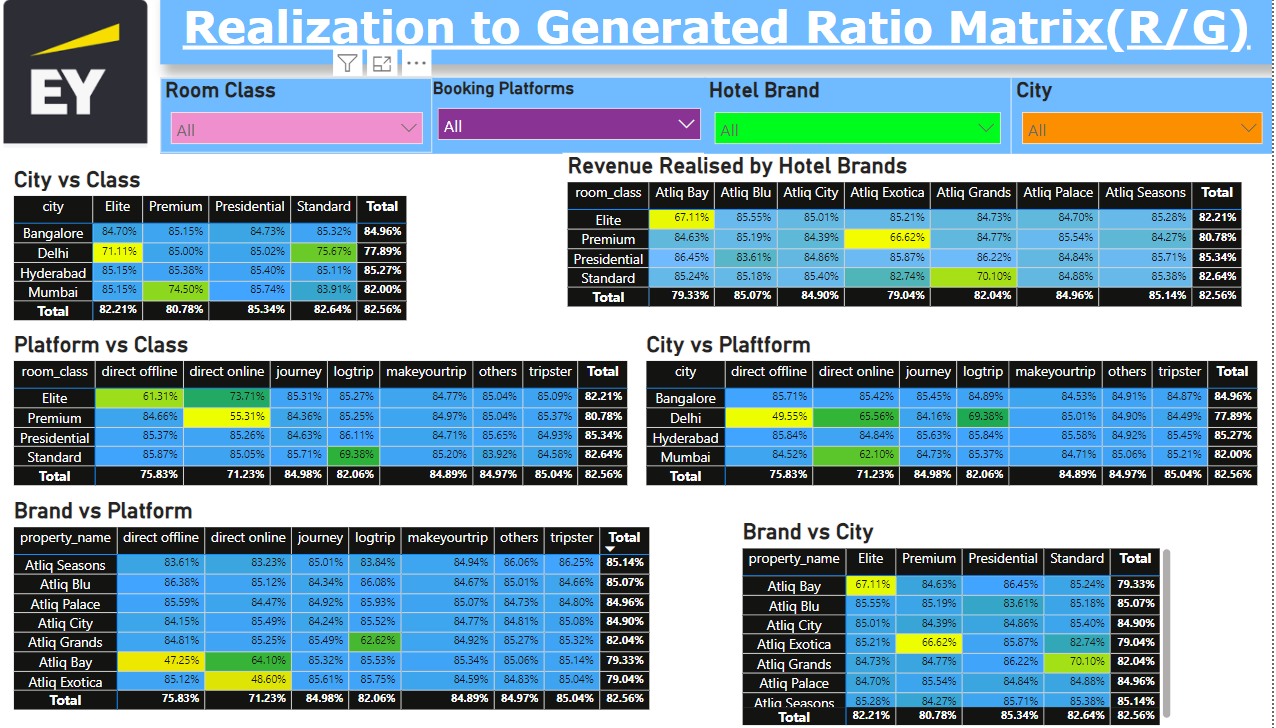

Layout of this report page (visuals, bound fields, positions):
{"tool":"powerbi","page":{"name":"R/G Ratio","canvas":[1280,720],"ordinal":3},"visuals":[{"type":"textbox","box":[191.4,0,1088.6,68.6],"z":0},{"type":"slicer","title":"Booking Platforms","fields":{"Values":["fact_bookings.booking_platform"]},"box":[458.6,81.4,267.1,74.3],"z":1000},{"type":"image","box":[0,0,217.7,155.3],"z":2000},{"type":"pivotTable","title":"Revenue Realised by Hotel Brands","fields":{"Values":["fact_bookings._Realised_to_Generated_ratio"],"Columns":["dim_hotels.property_name"],"Rows":["dim_rooms.room_class"]},"box":[585.7,155.3,677.4,157.7],"z":3000},{"type":"slicer","title":"Room Class","fields":{"Values":["dim_rooms.room_class"]},"box":[191.4,81.4,267.1,74.3],"z":4000},{"type":"actionButton","box":[0,0,100,40],"z":5000},{"type":"slicer","title":"Hotel Brand","fields":{"Values":["dim_hotels.property_name"]},"box":[724.3,81.4,300,74.3],"z":6000},{"type":"pivotTable","title":"Platform vs Class","fields":{"Values":["fact_bookings._Realised_to_Generated_ratio"],"Columns":["fact_bookings.booking_platform"],"Rows":["dim_rooms.room_class"]},"box":[44,330.2,626.1,176.1],"z":7000},{"type":"pivotTable","title":"City vs Plaftform","fields":{"Values":["fact_bookings._Realised_to_Generated_ratio"],"Rows":["dim_hotels.city"],"Columns":["fact_bookings.booking_platform"]},"box":[662.8,330.2,617.5,162.6],"z":8000},{"type":"pivotTable","title":"Brand vs Platform","fields":{"Rows":["dim_hotels.property_name"],"Values":["fact_bookings._Realised_to_Generated_ratio"],"Columns":["fact_bookings.booking_platform"]},"box":[44,492.8,639.5,227.4],"z":9000},{"type":"slicer","title":"City","fields":{"Values":["dim_hotels.city"]},"box":[1024.3,81.4,255.7,74.3],"z":10000},{"type":"pivotTable","title":"City vs Class","fields":{"Columns":["dim_rooms.room_class"],"Values":["fact_bookings._Realised_to_Generated_ratio"],"Rows":["dim_hotels.city"]},"box":[44,168.8,414.5,161.4],"z":11000},{"type":"pivotTable","title":"Brand vs City","fields":{"Rows":["dim_hotels.property_name"],"Values":["fact_bookings._Realised_to_Generated_ratio"],"Columns":["dim_rooms.room_class"]},"box":[756.9,513.6,429.2,206.7],"z":12000}]}

Visuals, with their boxes in screenshot pixels (x1, y1, x2, y2), scaled from the page's 1280x720 canvas onto the 1276x728 screenshot:
textbox: {"left": 191, "top": 0, "right": 1275, "bottom": 69}
"Booking Platforms" slicer: {"left": 457, "top": 82, "right": 723, "bottom": 157}
image: {"left": 0, "top": 0, "right": 217, "bottom": 157}
"Revenue Realised by Hotel Brands" pivotTable: {"left": 584, "top": 157, "right": 1259, "bottom": 316}
"Room Class" slicer: {"left": 191, "top": 82, "right": 457, "bottom": 157}
actionButton: {"left": 0, "top": 0, "right": 100, "bottom": 40}
"Hotel Brand" slicer: {"left": 722, "top": 82, "right": 1021, "bottom": 157}
"Platform vs Class" pivotTable: {"left": 44, "top": 334, "right": 668, "bottom": 512}
"City vs Plaftform" pivotTable: {"left": 661, "top": 334, "right": 1275, "bottom": 498}
"Brand vs Platform" pivotTable: {"left": 44, "top": 498, "right": 681, "bottom": 727}
"City" slicer: {"left": 1021, "top": 82, "right": 1275, "bottom": 157}
"City vs Class" pivotTable: {"left": 44, "top": 171, "right": 457, "bottom": 334}
"Brand vs City" pivotTable: {"left": 755, "top": 519, "right": 1182, "bottom": 727}
